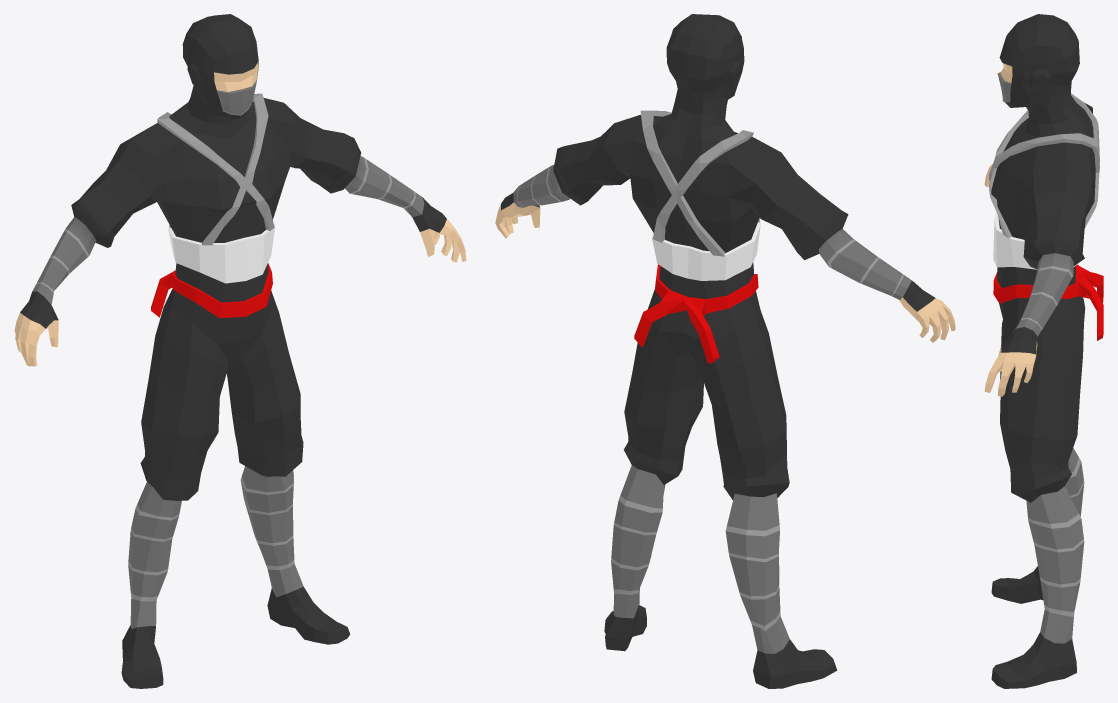
The model's file is low-poly_ninja.glb.
3 views of the same model, side by side, from view 1: azimuth 30°, elevation 25°; view 2: azimuth 150°, elevation 25°; view 3: azimuth 270°, elevation 25° (orthographic). The views are drawn at different scales.
Parts seen in each view (by area): view 1: NInja; view 2: NInja; view 3: NInja.
Part boxes in pixels (left/top/right/bottom): NInja: left=14, top=14, right=466, bottom=688; NInja: left=495, top=14, right=955, bottom=688; NInja: left=984, top=14, right=1103, bottom=688.
Size of the model in its own units: 11.06 by 15.25 by 2.66.
